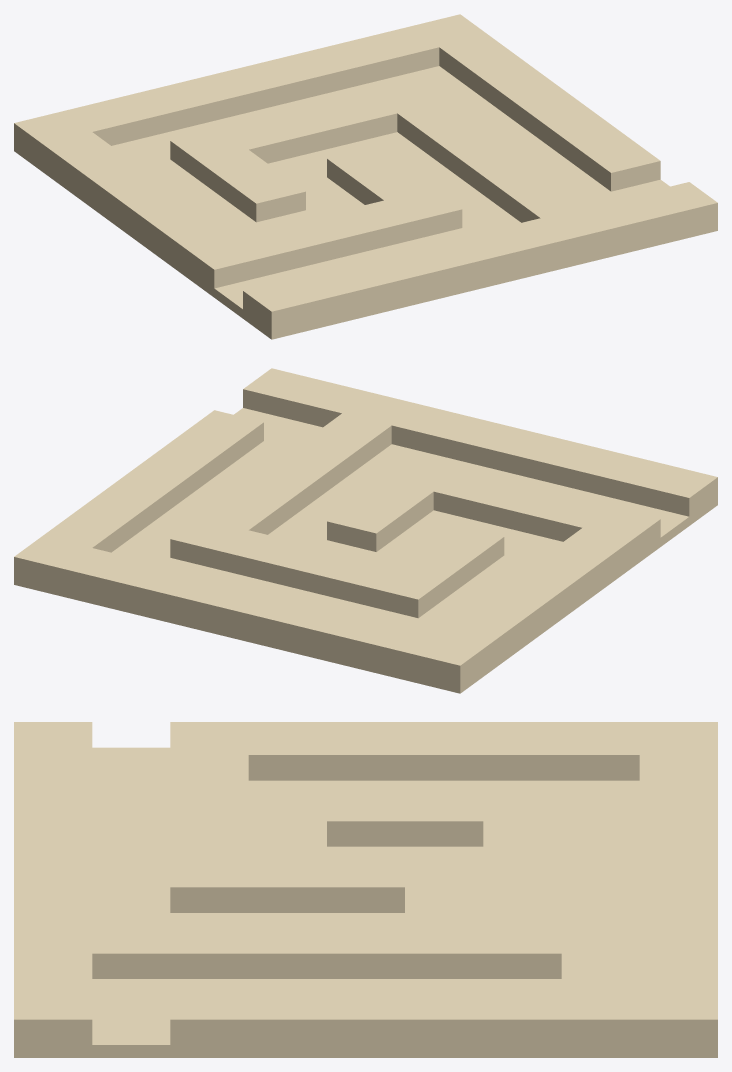
Rendered from greek_tile.fbx.
3 renders of one model, top to bottom at view 1: azimuth 30°, elevation 25°; view 2: azimuth 150°, elevation 25°; view 3: azimuth 270°, elevation 25°, orthographic. The views are drawn at different scales.
Parts seen in each view (by area): view 1: greek_tile; view 2: greek_tile; view 3: greek_tile.
Part boxes in pixels (left/top/right/bottom): greek_tile: left=14, top=14, right=717, bottom=339; greek_tile: left=14, top=368, right=717, bottom=693; greek_tile: left=14, top=722, right=717, bottom=1057.
Bounding box in the file's own units: 100 × 6 × 100.
Materials: 1 (1 with a texture image).
